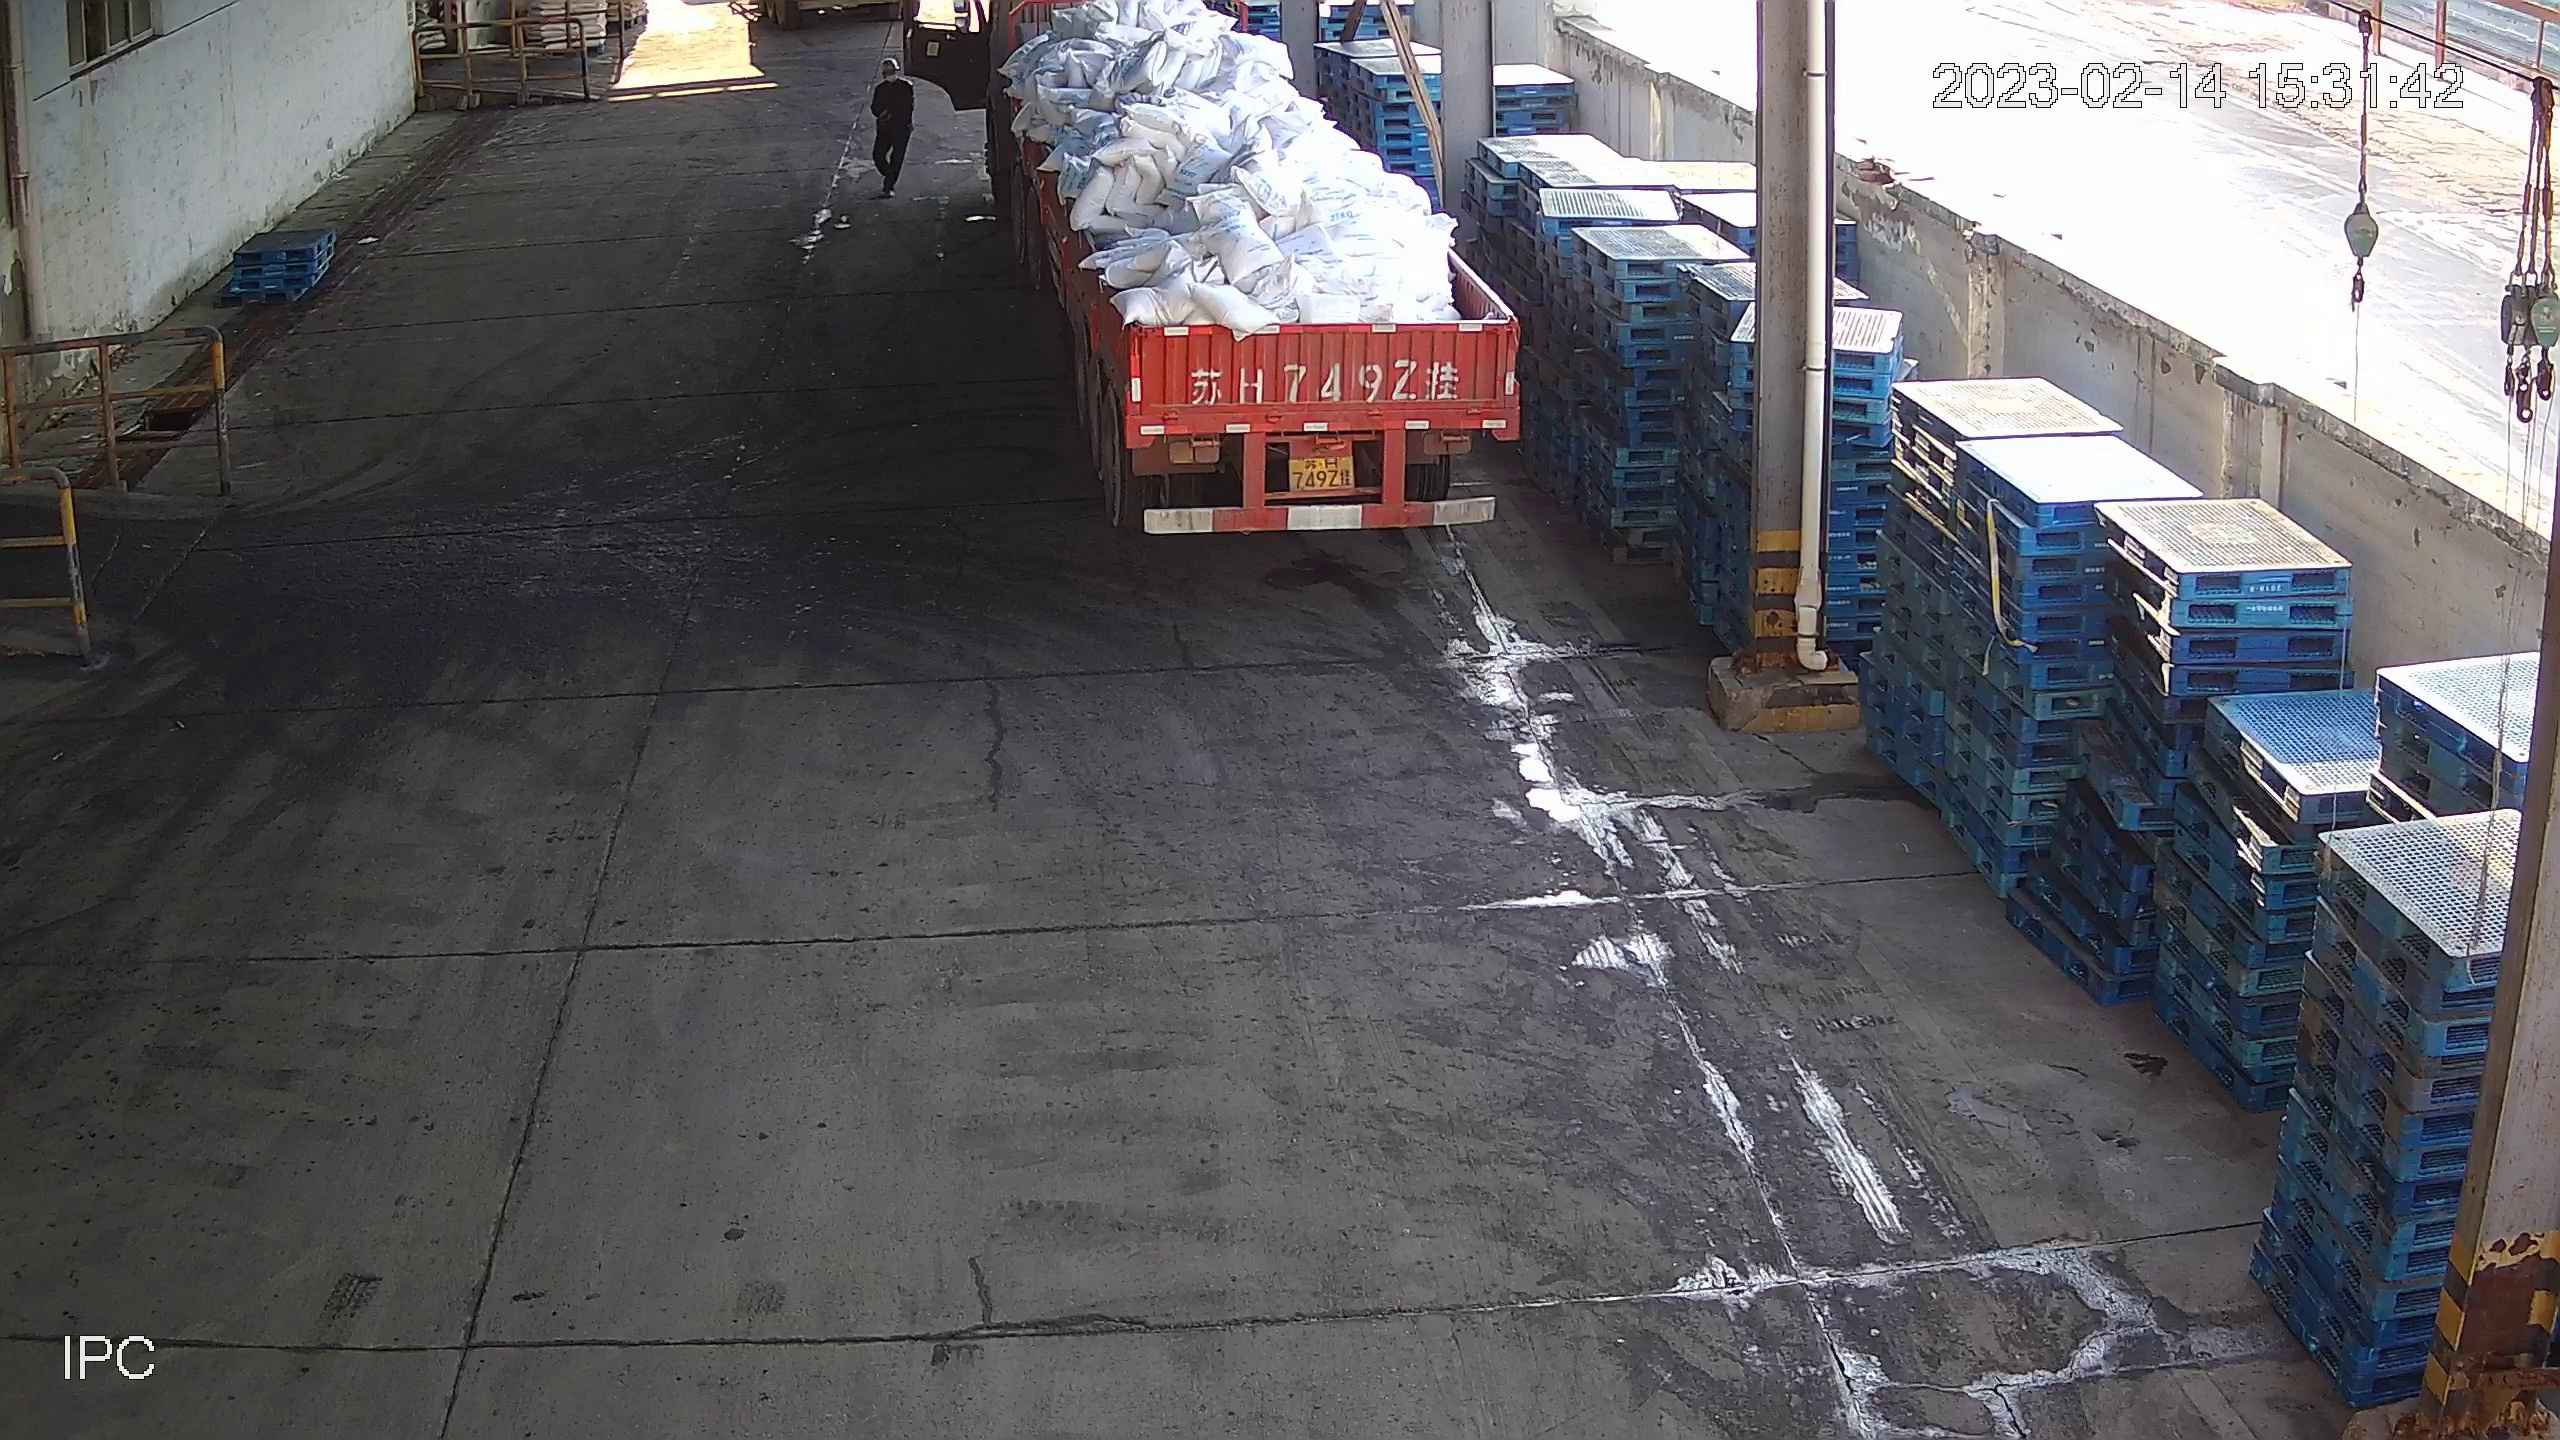people: (869, 57, 915, 202)
truck: (904, 1, 1517, 535)
